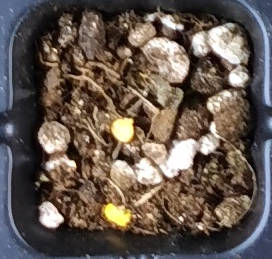chilli seed: (104, 203, 131, 227), (111, 117, 134, 142)
